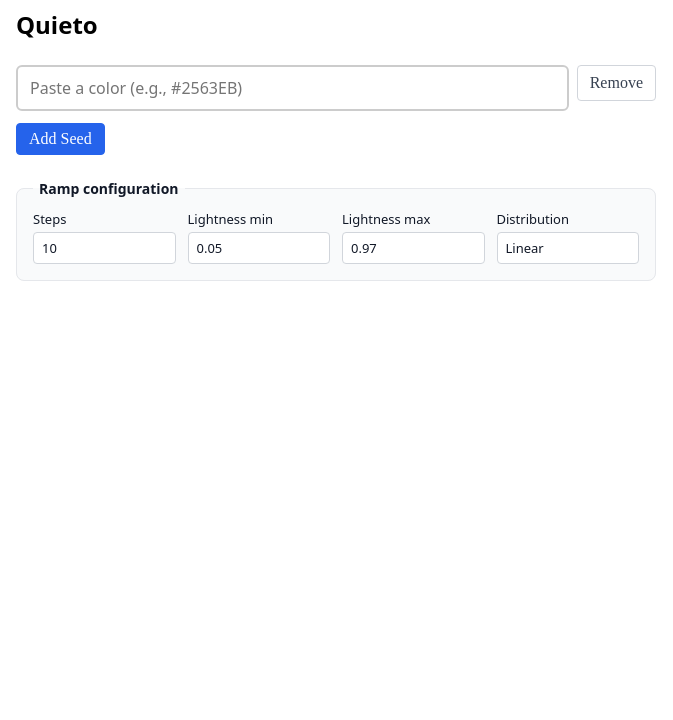
Scenario: App › keeps the previous ramp rendered when a new config is invalid
This screenshot has width=673, height=720.
Type "#2563EB" into the field. click: (292,88)
box: 16,65 -> 569,111
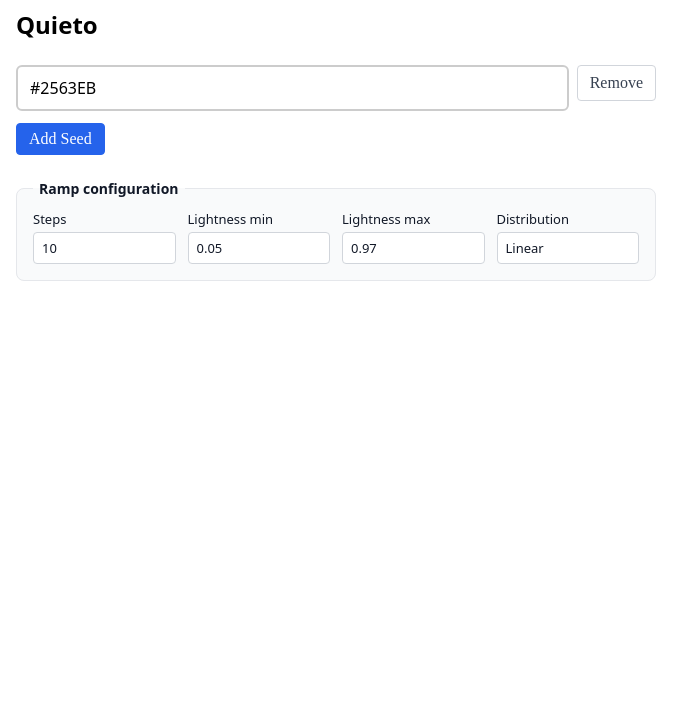
Press Enter in the field, box 16,65 -> 569,111
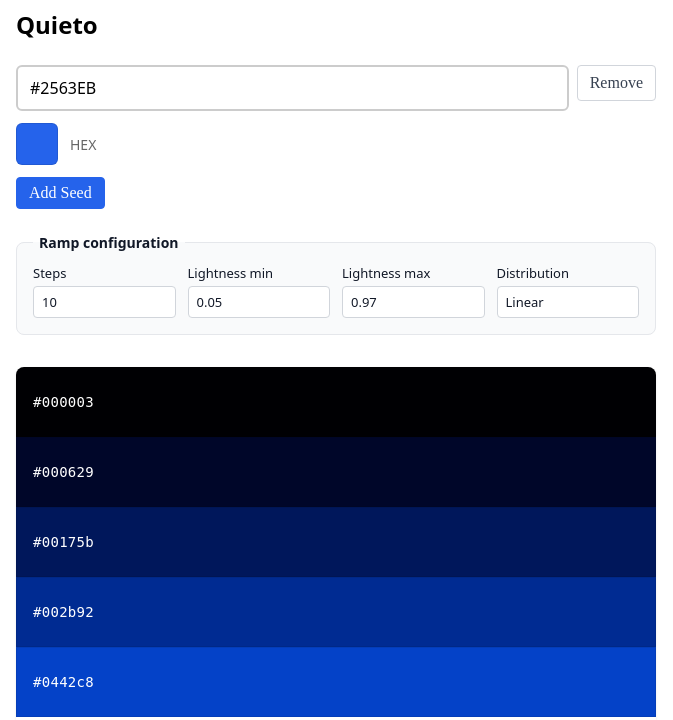
Replace the text in the number field labelled "Lightness min" with "0.99". click: (259,302)
box: 188,286 -> 330,318
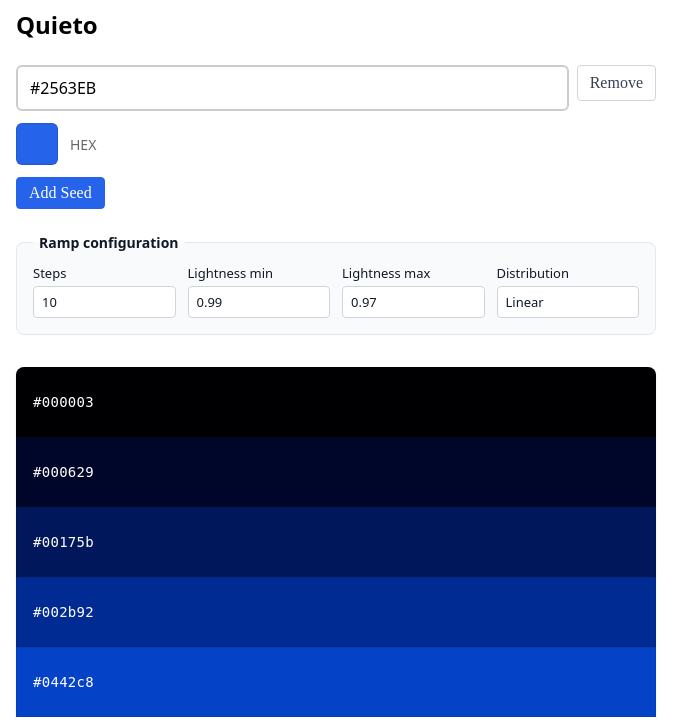
Leave the number field labelled "Lightness min", box 188,286 -> 330,318
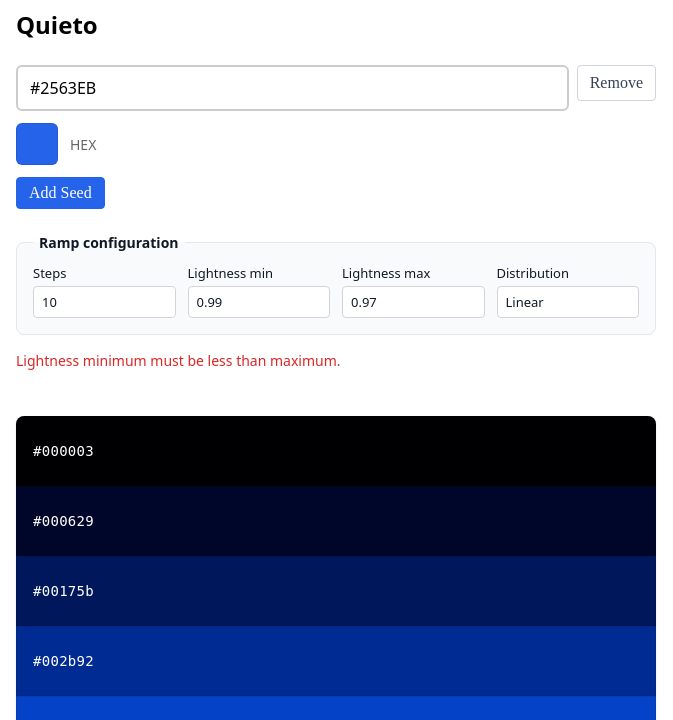
Expected: the list item "#000003" is shown, 16,416 -> 656,486
Expected: the message "Lightness minimum must be less than maximum." is shown, 16,351 -> 340,370
